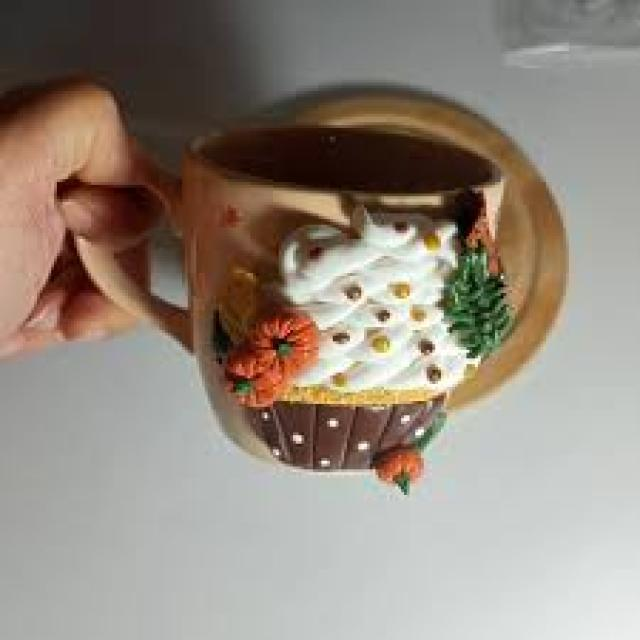taza: (63, 121, 513, 499)
